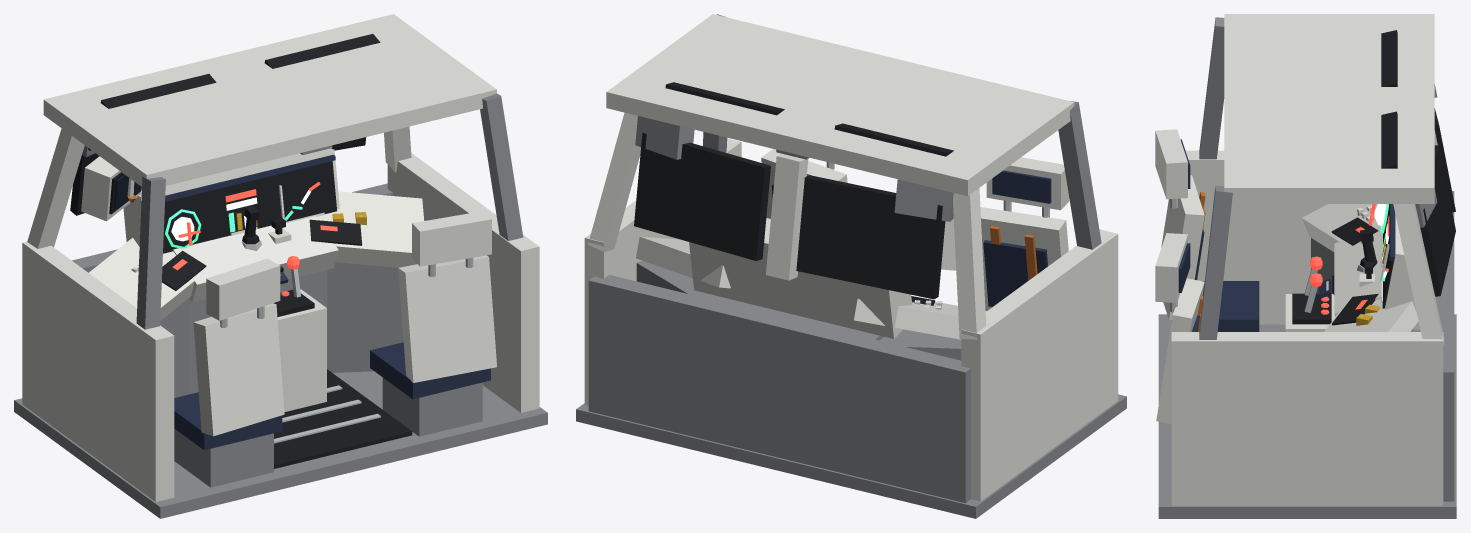
The model's file is cockpit_pilot.glb.
3 renders of one model, left to right at view 1: azimuth 30°, elevation 25°; view 2: azimuth 150°, elevation 25°; view 3: azimuth 270°, elevation 25°, orthographic. The views are drawn at different scales.
Parts seen in each view (by area): view 1: CockpitPilot_Hull, CockpitPilot_Titanium, CockpitPilot_HullBlack, CockpitPilot_Pack, CockpitPilot_Aluminum, CockpitPilot_Lamp, CockpitPilot_LedRed; view 2: CockpitPilot_Hull, CockpitPilot_Titanium, CockpitPilot_HullBlack, CockpitPilot_Pack, CockpitPilot_Foam; view 3: CockpitPilot_Hull, CockpitPilot_Titanium, CockpitPilot_HullBlack, CockpitPilot_Pack, Joystick_RHC_HullBlack, CockpitPilot_LedRed.
Part boxes in pixels (<box>): CockpitPilot_Hull: <box>22,14,539,501</box>; CockpitPilot_Titanium: <box>14,93,547,518</box>; CockpitPilot_HullBlack: <box>70,34,412,468</box>; CockpitPilot_Pack: <box>165,155,490,450</box>; CockpitPilot_Aluminum: <box>219,257,473,443</box>; CockpitPilot_Lamp: <box>171,190,310,241</box>; CockpitPilot_LedRed: <box>172,182,337,296</box>; CockpitPilot_Hull: <box>584,14,1118,501</box>; CockpitPilot_Titanium: <box>576,14,1126,518</box>; CockpitPilot_HullBlack: <box>634,82,953,305</box>; CockpitPilot_Pack: <box>771,170,1051,306</box>; CockpitPilot_Foam: <box>774,175,1037,280</box>; CockpitPilot_Hull: <box>1155,14,1444,505</box>; CockpitPilot_Titanium: <box>1158,17,1456,518</box>; CockpitPilot_HullBlack: <box>1292,30,1455,325</box>; CockpitPilot_Pack: <box>1171,139,1394,331</box>; Joystick_RHC_HullBlack: <box>1360,228,1377,267</box>; CockpitPilot_LedRed: <box>1321,204,1389,314</box>.
Size of the model in its own units: 2.08 by 1.64 by 1.37.
